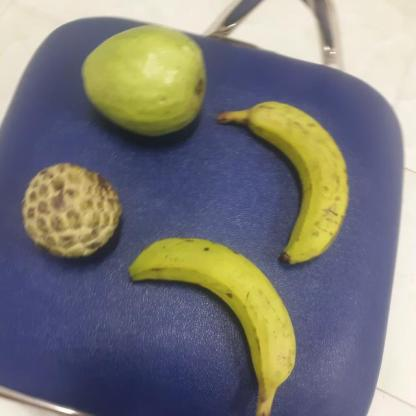annona: (16, 163, 121, 259)
banana: (121, 239, 292, 409), (210, 99, 350, 265)
guava: (78, 21, 208, 140)
